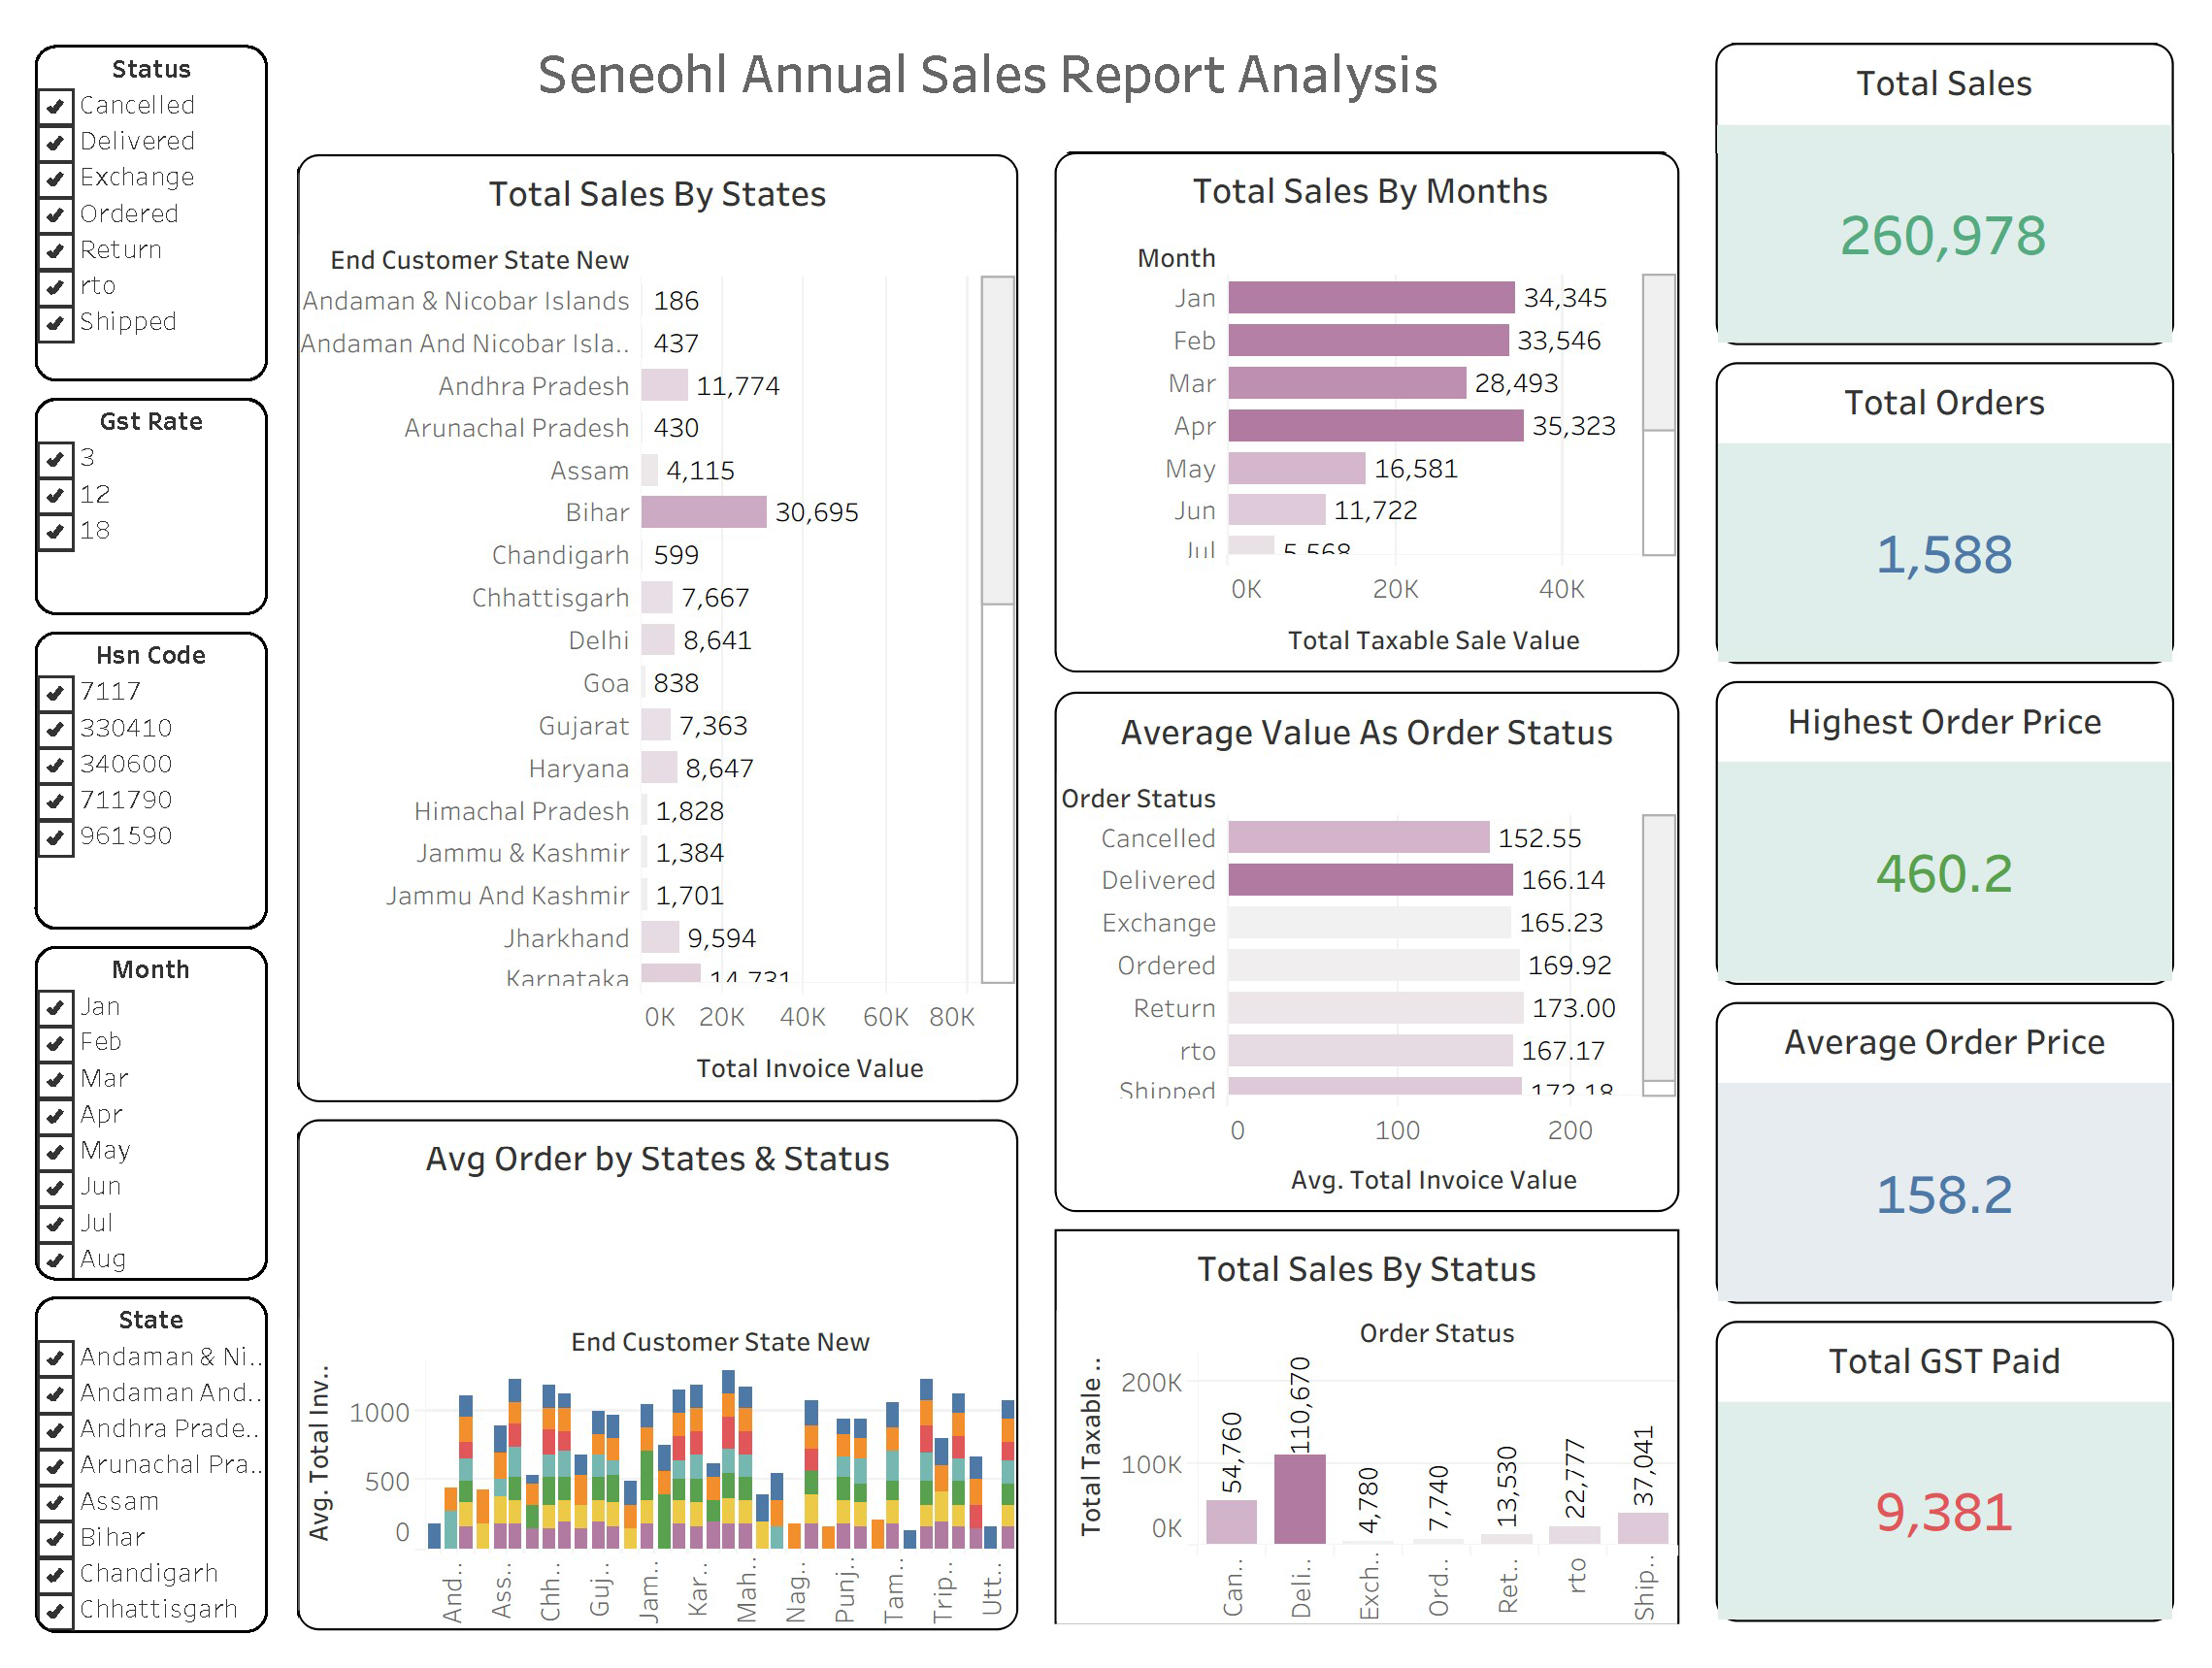

The dashboard page shown, as its layout file describes it:
{"tool":"tableau","page":{"name":"Dashboard ","canvas":[1024,768],"ordinal":0},"visuals":[{"type":"text","box":[190,5,536,39]},{"type":"worksheet","title":"Total Sales","mark":"Automatic","box":[794,7,223,150.2]},{"type":"filter","title":"Avg Order by Status * Status","param":"[federated.1fuvl6y0j8v0811h9o1nd1wq11ws].[none:order_status:nk]","box":[6,8,117,165.7]},{"type":"worksheet","title":"By Month","mark":"Automatic","rows":["Month"],"cols":["total_taxable_sale_value"],"box":[484,58,301,253.5]},{"type":"worksheet","title":"By States","mark":"Automatic","rows":["end_customer_state_new"],"cols":["total_invoice_value"],"box":[129,59,346,454]},{"type":"worksheet","title":"Total Orders","mark":"Automatic","box":[794,157.2,223,150.2]},{"type":"filter","title":"Avg Order by Status * Status","param":"[federated.1fuvl6y0j8v0811h9o1nd1wq11ws].[none:gst_rate:ok]","box":[6,173.7,117,110]},{"type":"filter","title":"Avg Order by Status * Status","param":"[federated.1fuvl6y0j8v0811h9o1nd1wq11ws].[none:hsn_code:ok]","box":[6,283.7,117,148]},{"type":"worksheet","title":"Highest Order Price","mark":"Automatic","box":[794,307.4,223,150.2]},{"type":"worksheet","title":"Avg /Status","mark":"Automatic","rows":["order_status"],"cols":["total_invoice_value"],"box":[484,311.5,301,253.5]},{"type":"filter","title":"Avg Order by Status * Status","param":"[federated.1fuvl6y0j8v0811h9o1nd1wq11ws].[none:Month:nk]","box":[6,431.7,117,165.7]},{"type":"worksheet","title":"Avg Order","mark":"Automatic","box":[794,457.6,223,150.2]},{"type":"worksheet","title":"Avg Order by Status * Status","mark":"Automatic","rows":["total_invoice_value"],"cols":["end_customer_state_new"],"box":[129,513,346,249]},{"type":"worksheet","title":"By Status","mark":"Automatic","rows":["total_taxable_sale_value"],"cols":["order_status"],"box":[484,565,301,194]},{"type":"filter","title":"Avg Order by Status * Status","param":"[federated.1fuvl6y0j8v0811h9o1nd1wq11ws].[none:end_customer_state_new:nk]","box":[6,597.3,117,165.7]},{"type":"worksheet","title":"Total Tax","mark":"Automatic","box":[794,607.8,223,150.2]}]}

Visuals, with their boxes in screenshot pixels (x1, y1, x2, y2), scaled from the page's 1024x768 canvas onto the 2212x1668 screenshot:
text: BBox(411, 11, 1568, 95)
"Total Sales" worksheet: BBox(1715, 16, 2196, 342)
"Avg Order by Status * Status" filter: BBox(13, 17, 266, 377)
"By Month" worksheet: BBox(1045, 126, 1696, 676)
"By States" worksheet: BBox(279, 128, 1026, 1114)
"Total Orders" worksheet: BBox(1715, 342, 2196, 668)
"Avg Order by Status * Status" filter: BBox(13, 377, 266, 616)
"Avg Order by Status * Status" filter: BBox(13, 616, 266, 937)
"Highest Order Price" worksheet: BBox(1715, 668, 2196, 994)
"Avg /Status" worksheet: BBox(1045, 676, 1696, 1227)
"Avg Order by Status * Status" filter: BBox(13, 937, 266, 1297)
"Avg Order" worksheet: BBox(1715, 994, 2196, 1320)
"Avg Order by Status * Status" worksheet: BBox(279, 1114, 1026, 1655)
"By Status" worksheet: BBox(1045, 1227, 1696, 1649)
"Avg Order by Status * Status" filter: BBox(13, 1297, 266, 1657)
"Total Tax" worksheet: BBox(1715, 1320, 2196, 1647)
